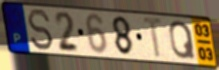2: (53, 10, 81, 53)
6: (85, 12, 110, 57)
8: (111, 15, 135, 57)
Q: (168, 20, 197, 61)
S: (26, 8, 55, 52)
T: (140, 15, 166, 60)
